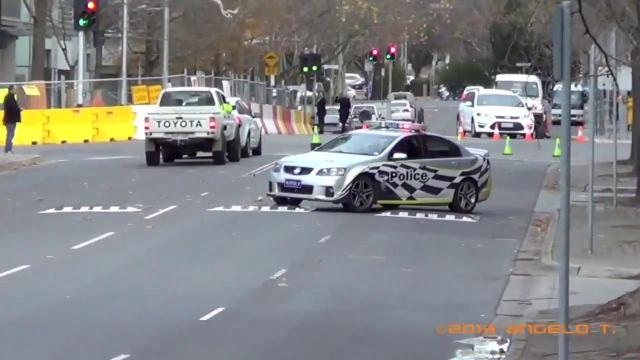police_car: (266, 124, 496, 216)
